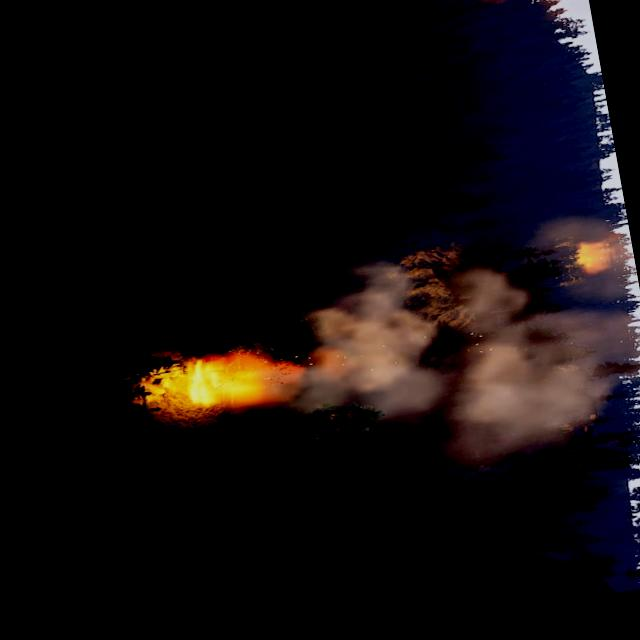fire: (129, 336, 303, 426), (572, 234, 623, 274)
smoke: (283, 219, 640, 504), (457, 0, 535, 12)
